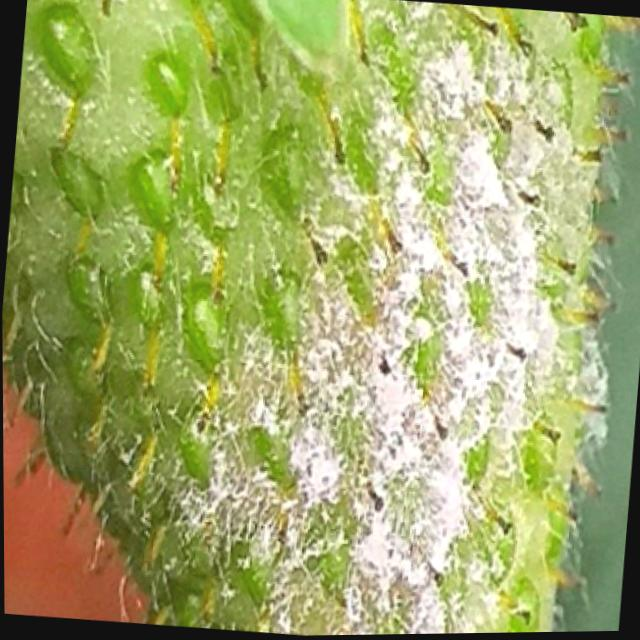Powdery Mildew Fruit: (2, 0, 640, 636)
